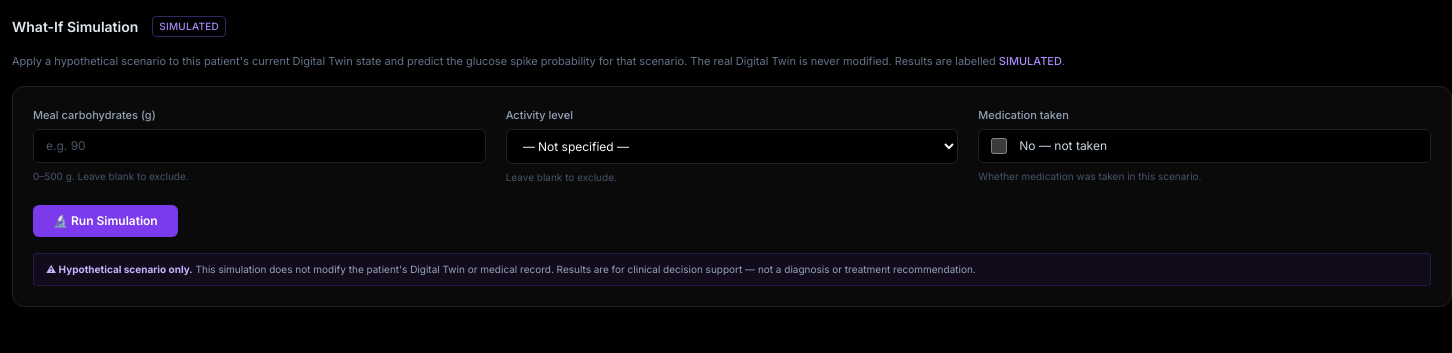
Test: WhatIfSimulationPanel › clears at-least-one error when medication checkbox is ticked
The width and height of the screenshot is (1452, 353).
# Trigger the error
Click the button with test id "run-simulation-button": (105, 221) left=33, top=205, right=178, bottom=237
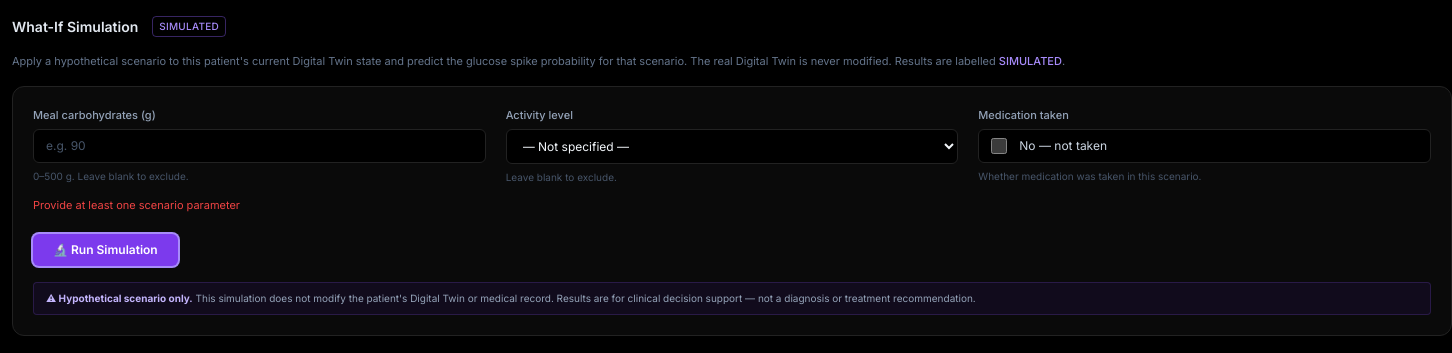
Now the message "Provide at least one scenario parameter" is shown, box left=33, top=198, right=240, bottom=212
# Tick medication — should clear the error
Click the checkbox named "medication taken": (999, 146) left=991, top=138, right=1007, bottom=154
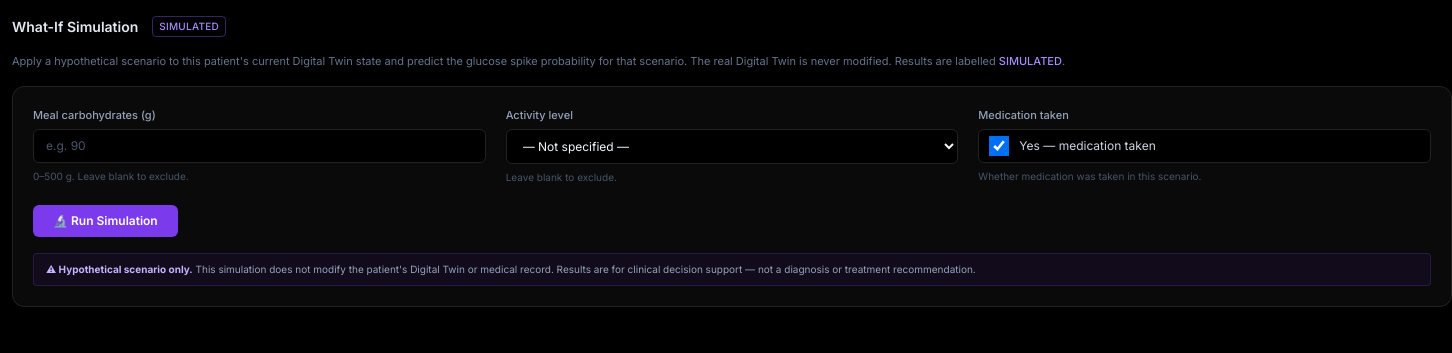
Now the message with test id "at-least-one-error" is gone
